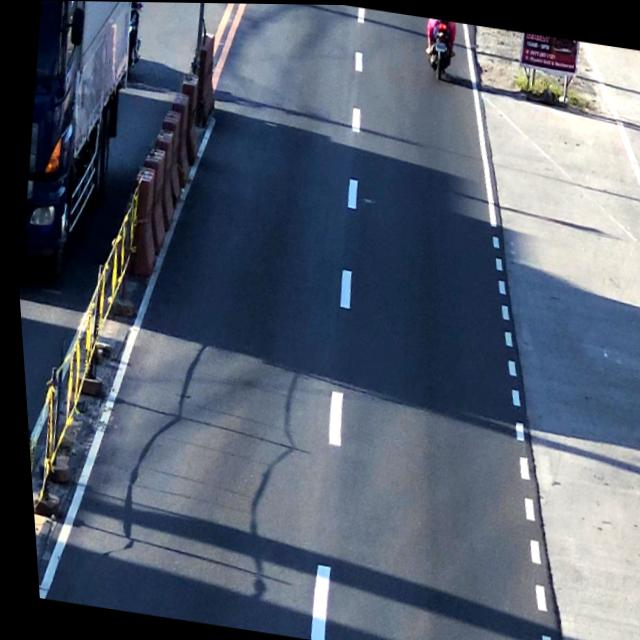Motorcycle: (420, 17, 462, 82)
